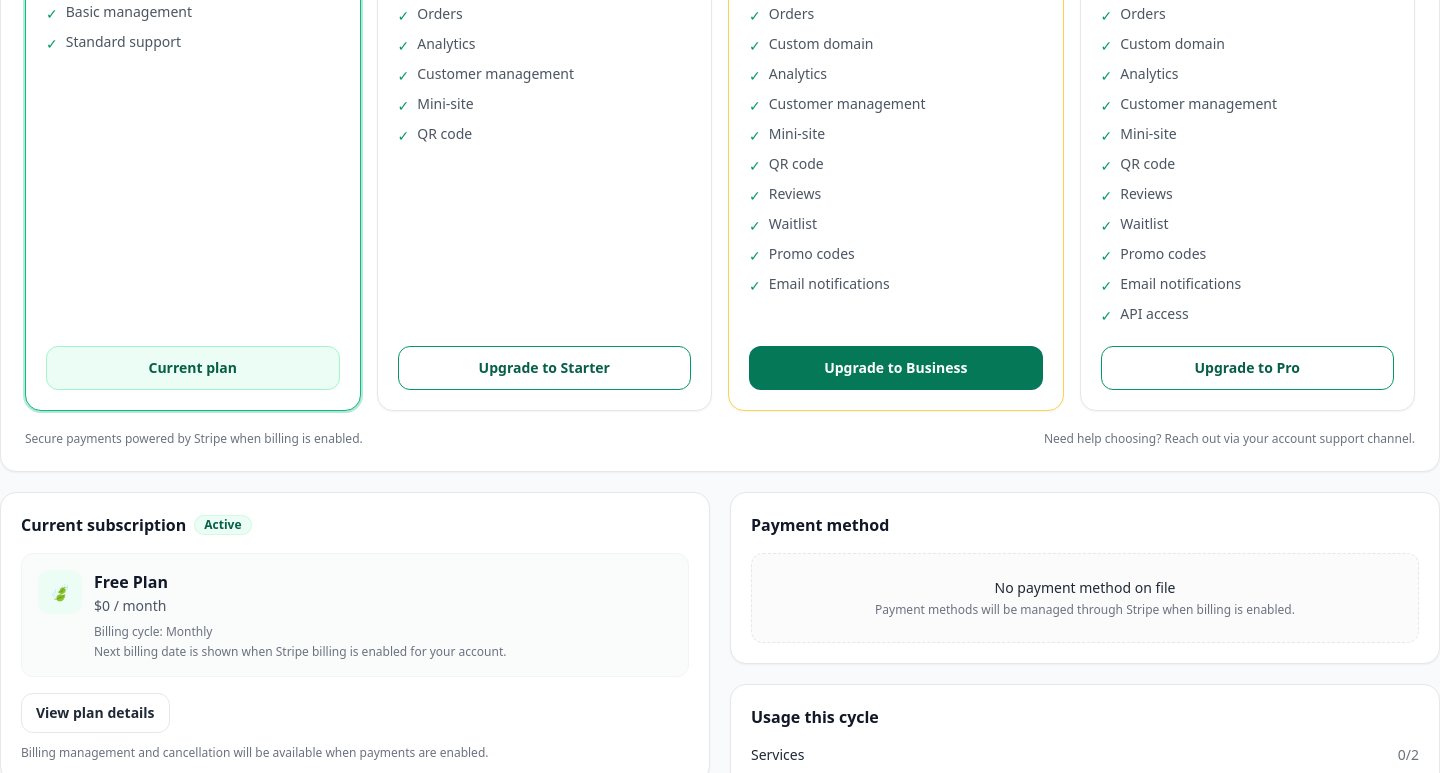
Test case: admin billing checkout › F. failed checkout shows friendly error without fake success
(page scrolled)
Click the button with test id "admin-payments-plan-cta-pro". click: (1247,368)
box: [1100,346,1394,390]
(page scrolled)
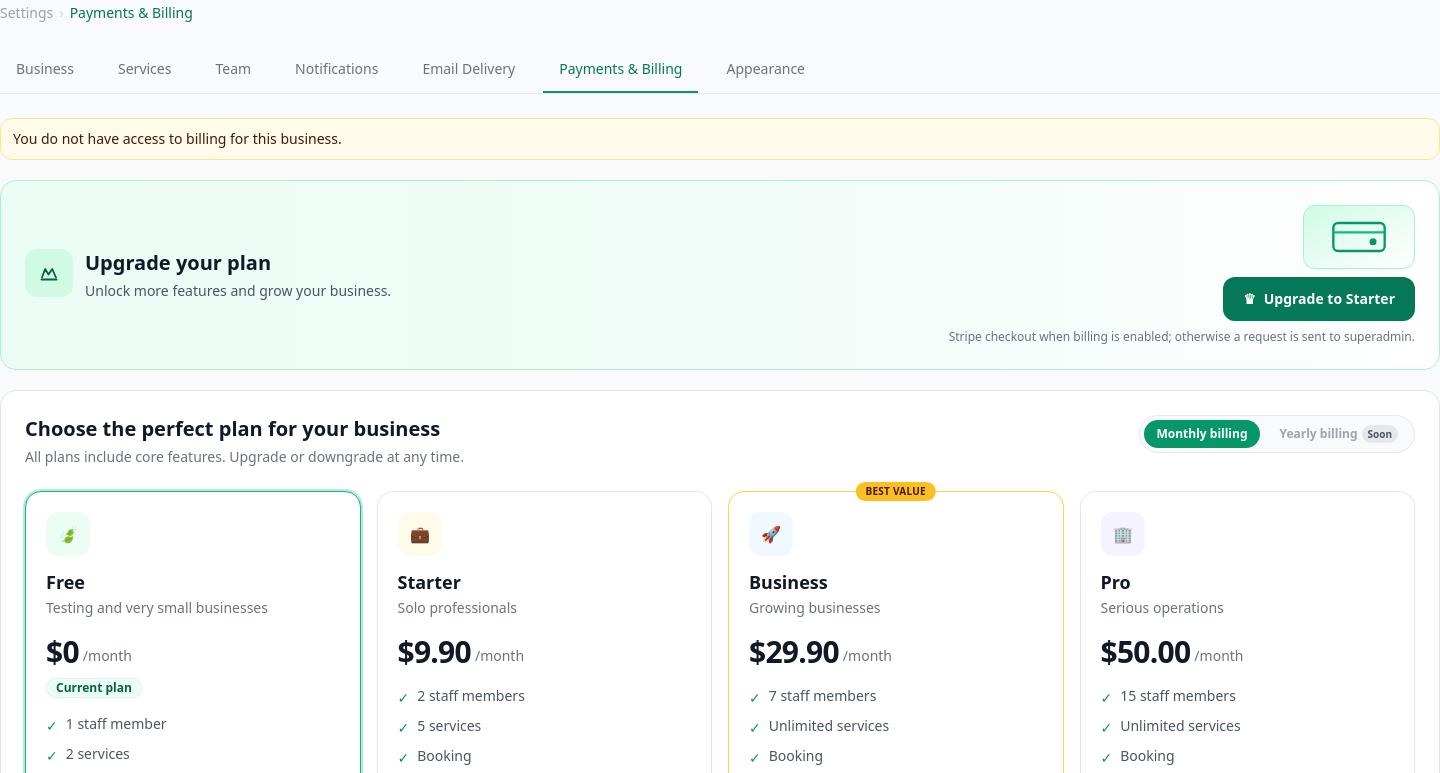
Expected: the message with test id "admin-payments-action-feedback" reads "You do not have access to billing for this business.", [13,129,342,148]
